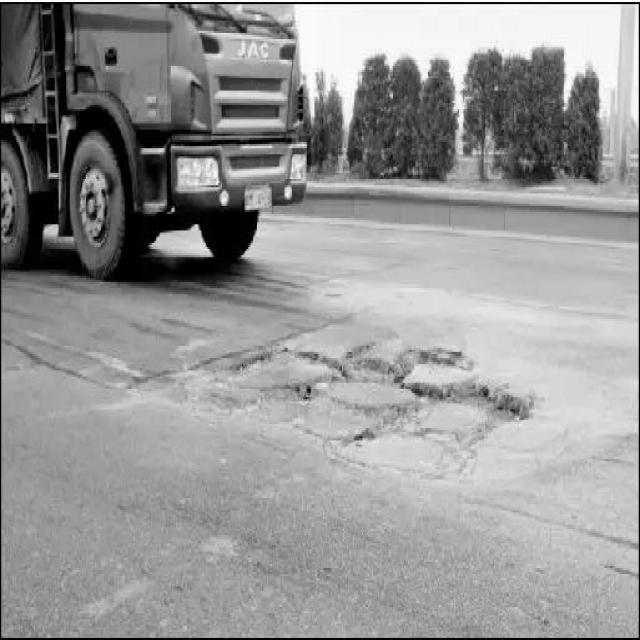pothole: (139, 336, 533, 478)
